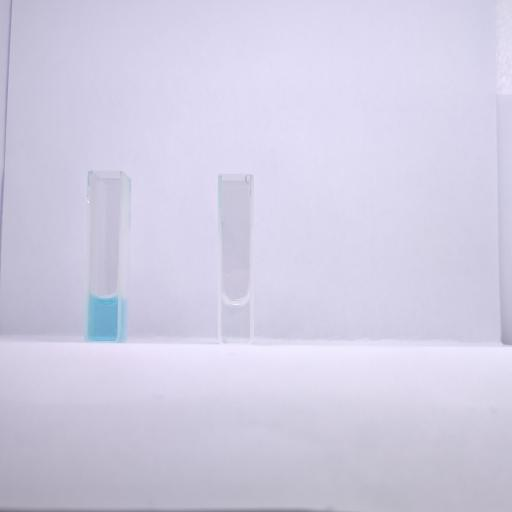cuvette: (83, 168, 123, 344), (216, 171, 255, 348)
liquid: (89, 299, 117, 340), (222, 302, 250, 343)
